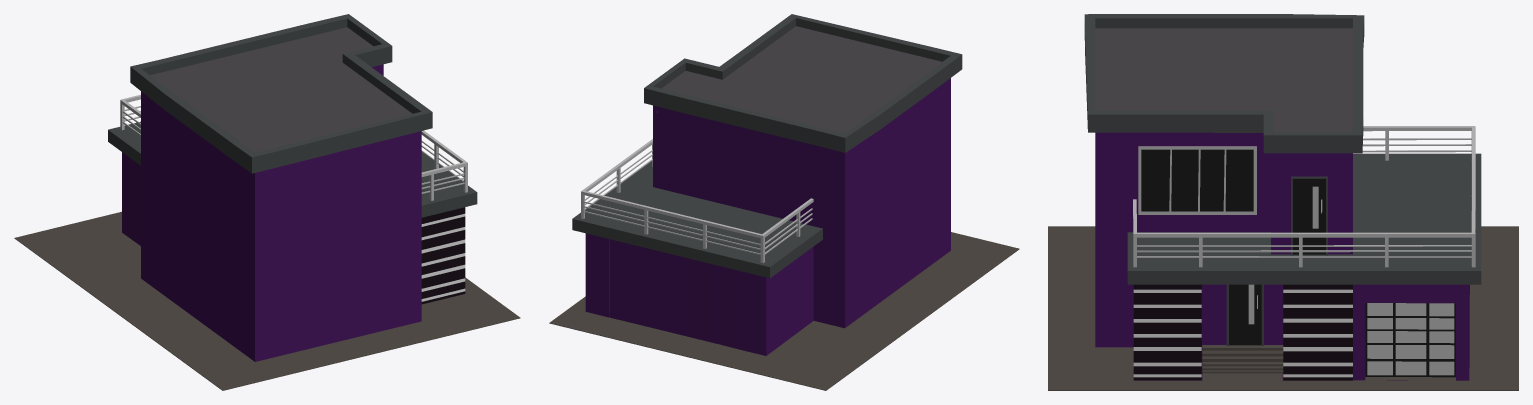
The model's file is Building_House3_Purple.fbx.
3 views of the same model, side by side, from view 1: azimuth 30°, elevation 25°; view 2: azimuth 150°, elevation 25°; view 3: azimuth 270°, elevation 25° (orthographic). The views are drawn at different scales.
Visible parts, largest first — view 1: Cube, Plane, Plane.002; view 2: Cube, Plane; view 3: Cube, Plane, Plane.003, Plane.001.
Boxes of the visible parts, <box> form: Cube: <box>108,14,477,361</box>; Plane: <box>14,211,520,390</box>; Plane.002: <box>421,207,465,304</box>; Cube: <box>572,14,962,355</box>; Plane: <box>549,232,1019,390</box>; Cube: <box>1084,14,1481,380</box>; Plane: <box>1048,226,1518,390</box>; Plane.003: <box>1283,284,1352,380</box>; Plane.001: <box>1133,284,1201,380</box>.
Size of the model in its own units: 1100 by 743 by 1333.
